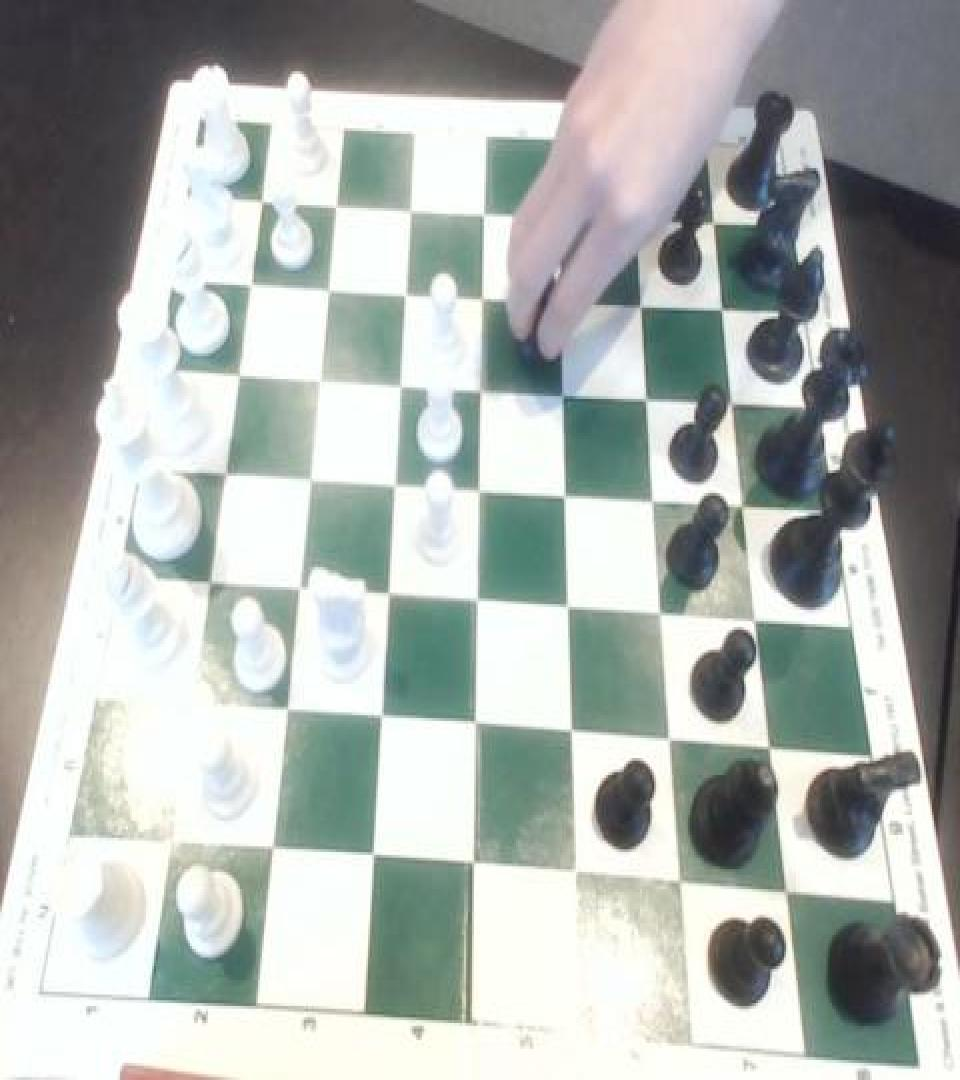xcorner: (235, 260, 263, 301), (304, 357, 332, 398), (380, 464, 408, 505), (703, 200, 731, 240), (625, 195, 653, 235), (472, 188, 500, 228), (321, 181, 349, 221), (247, 176, 275, 216), (712, 285, 740, 325), (631, 282, 659, 322), (551, 278, 579, 318), (392, 269, 420, 309), (313, 265, 341, 305), (637, 376, 665, 416), (553, 370, 581, 410), (469, 366, 497, 406), (386, 362, 414, 402), (733, 486, 761, 526), (644, 480, 672, 520), (294, 458, 322, 498), (208, 453, 236, 493), (745, 601, 773, 641), (651, 596, 679, 636), (558, 588, 586, 628), (465, 582, 493, 622), (373, 577, 401, 617), (282, 572, 310, 612), (192, 566, 220, 606), (759, 731, 787, 771), (561, 716, 589, 756), (270, 696, 298, 736), (175, 690, 203, 730), (774, 875, 802, 915), (669, 868, 697, 908), (564, 859, 592, 899), (460, 850, 488, 890), (358, 844, 386, 884), (256, 835, 284, 875), (155, 828, 183, 868), (549, 193, 577, 232), (397, 184, 425, 223), (471, 274, 499, 313), (722, 381, 750, 420), (222, 354, 250, 393), (555, 475, 583, 514), (467, 469, 495, 508), (659, 724, 687, 763), (463, 710, 491, 749), (366, 703, 394, 742)
